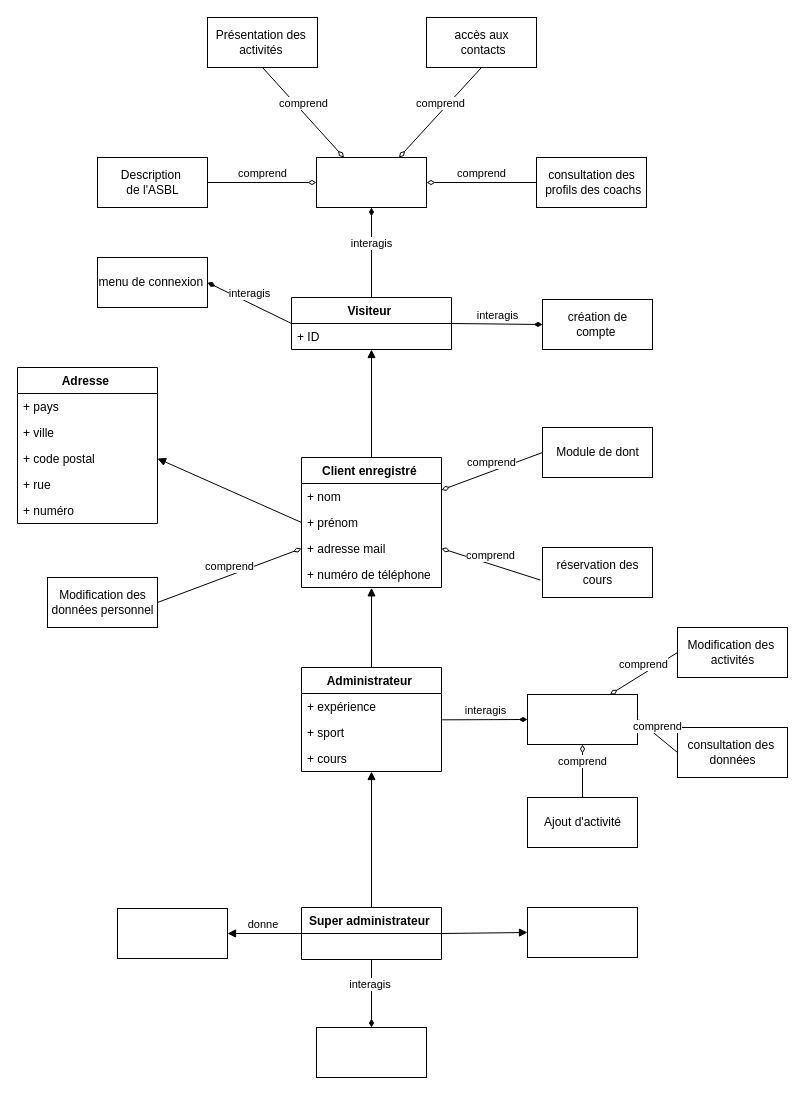
Image size: 805x1095. Some labels were removed from this diagram. Each missing label, with the centre of its shape:
gestion des activités: (582,719)
modification des données relative a l'ASBL: (371,1052)
modération: (582,932)
promotion: (172,933)
Vitrine du site: (371,182)
